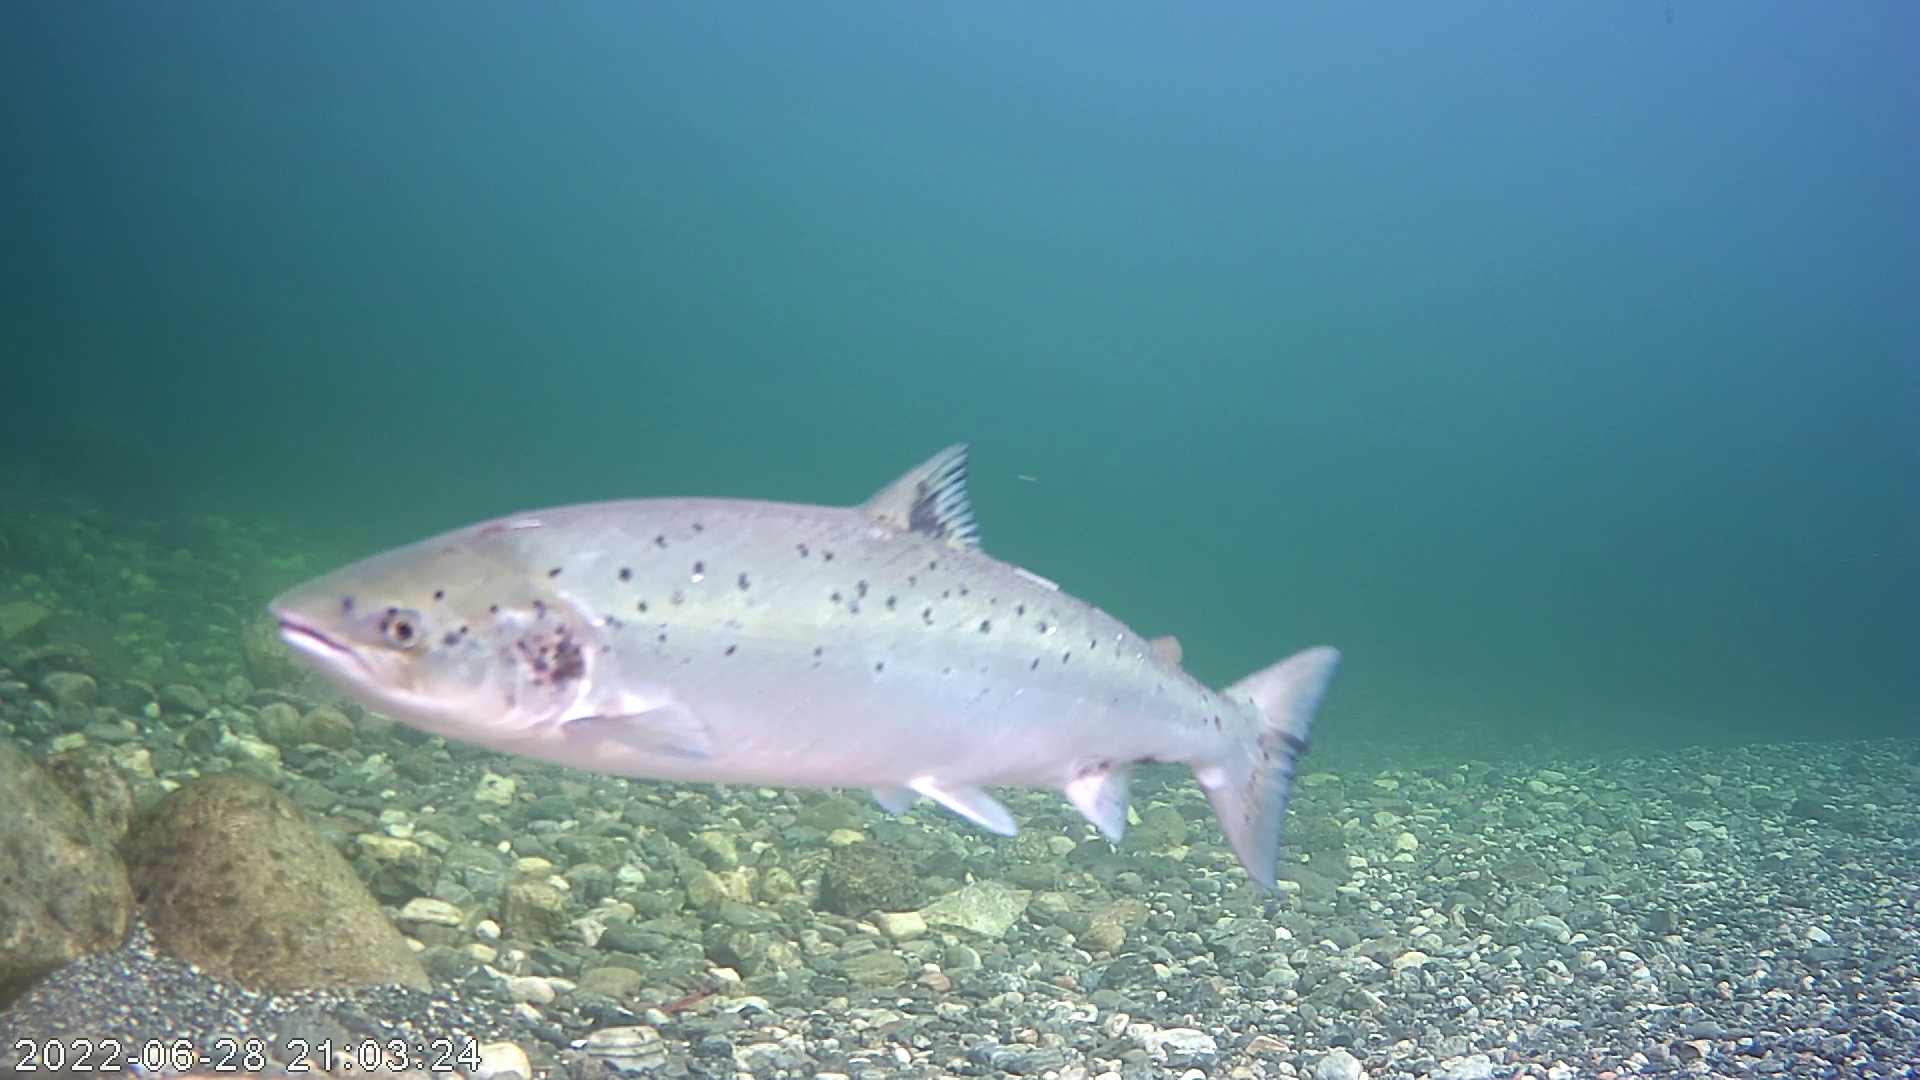salmon: (253, 371, 1346, 898)
